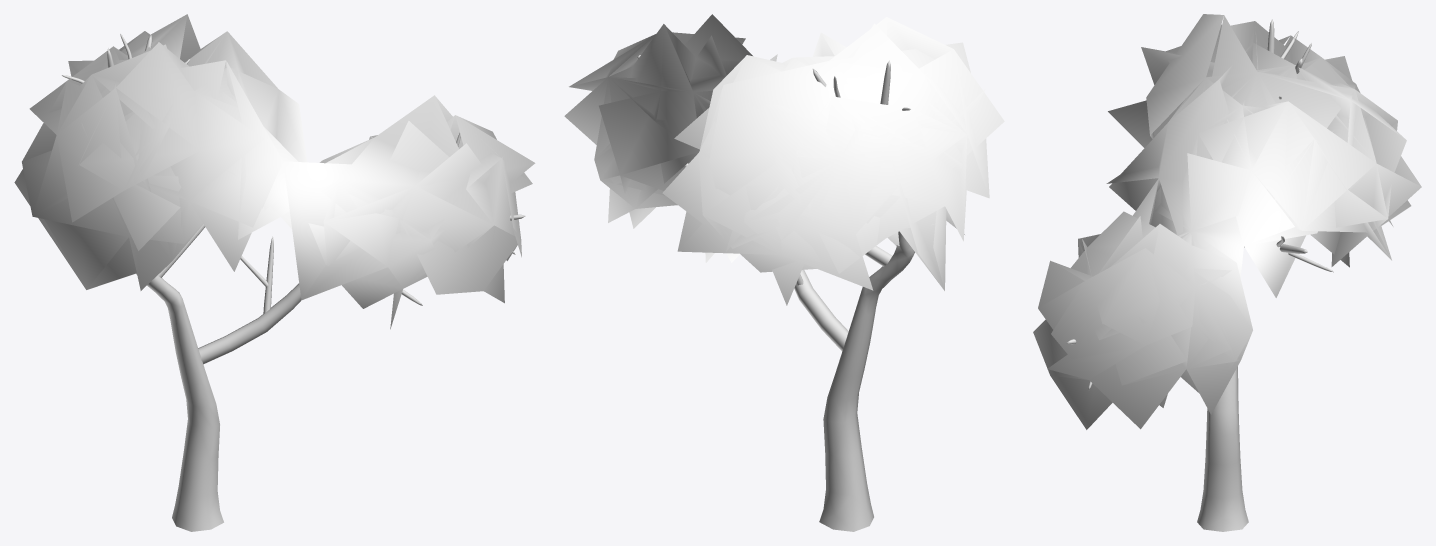
Rendered from MapleTree_1.glb.
3 renders of one model, left to right at view 1: azimuth 30°, elevation 25°; view 2: azimuth 150°, elevation 25°; view 3: azimuth 270°, elevation 25°, orthographic. The views are drawn at different scales.
Size of the model in its own units: 6.05 by 6.64 by 4.79.
2 materials, 1 textured.
